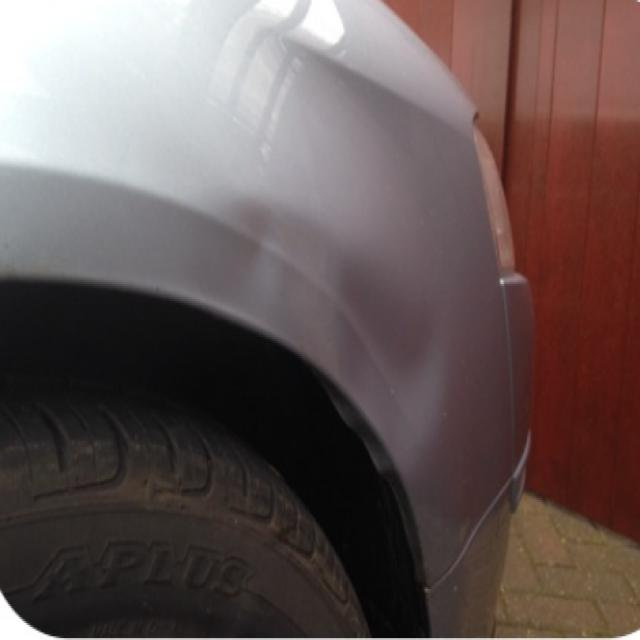dents: (352, 268, 478, 414), (209, 192, 297, 312)
